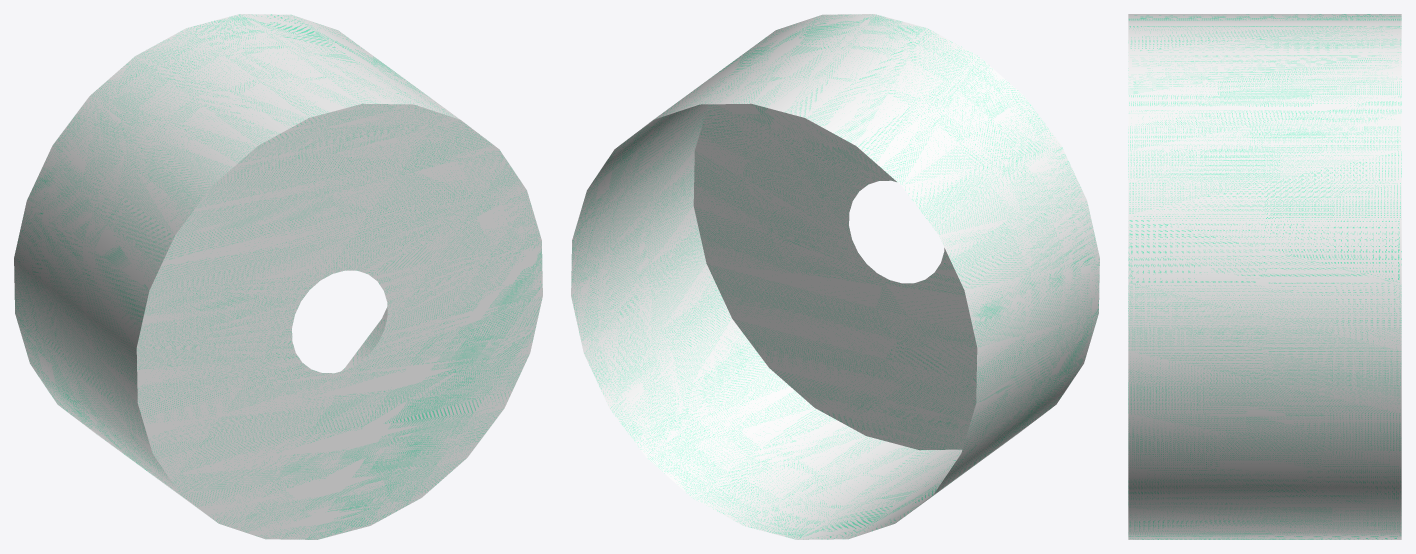
The model's file is original-10.obj.
The picture shows the model from 3 angles, left to right: view 1: azimuth 30°, elevation 25°; view 2: azimuth 150°, elevation 25°; view 3: azimuth 270°, elevation 25°; orthographic projection. The views are drawn at different scales.
Parts seen in each view (by area): view 1: 3dw.9b9a4bb5550f00ea586350d6e78ecc7/Model/mesh1/mesh1-geometry/m; view 2: 3dw.9b9a4bb5550f00ea586350d6e78ecc7/Model/mesh1/mesh1-geometry/m; view 3: 3dw.9b9a4bb5550f00ea586350d6e78ecc7/Model/mesh1/mesh1-geometry/m.
Boxes of the visible parts, x1,y1,x2,y2 form: 3dw.9b9a4bb5550f00ea586350d6e78ecc7/Model/mesh1/mesh1-geometry/m: [14, 14, 542, 539]; 3dw.9b9a4bb5550f00ea586350d6e78ecc7/Model/mesh1/mesh1-geometry/m: [571, 14, 1099, 539]; 3dw.9b9a4bb5550f00ea586350d6e78ecc7/Model/mesh1/mesh1-geometry/m: [1128, 14, 1401, 539].
Size of the model in its own units: 0.075 by 0.075 by 0.0392.
